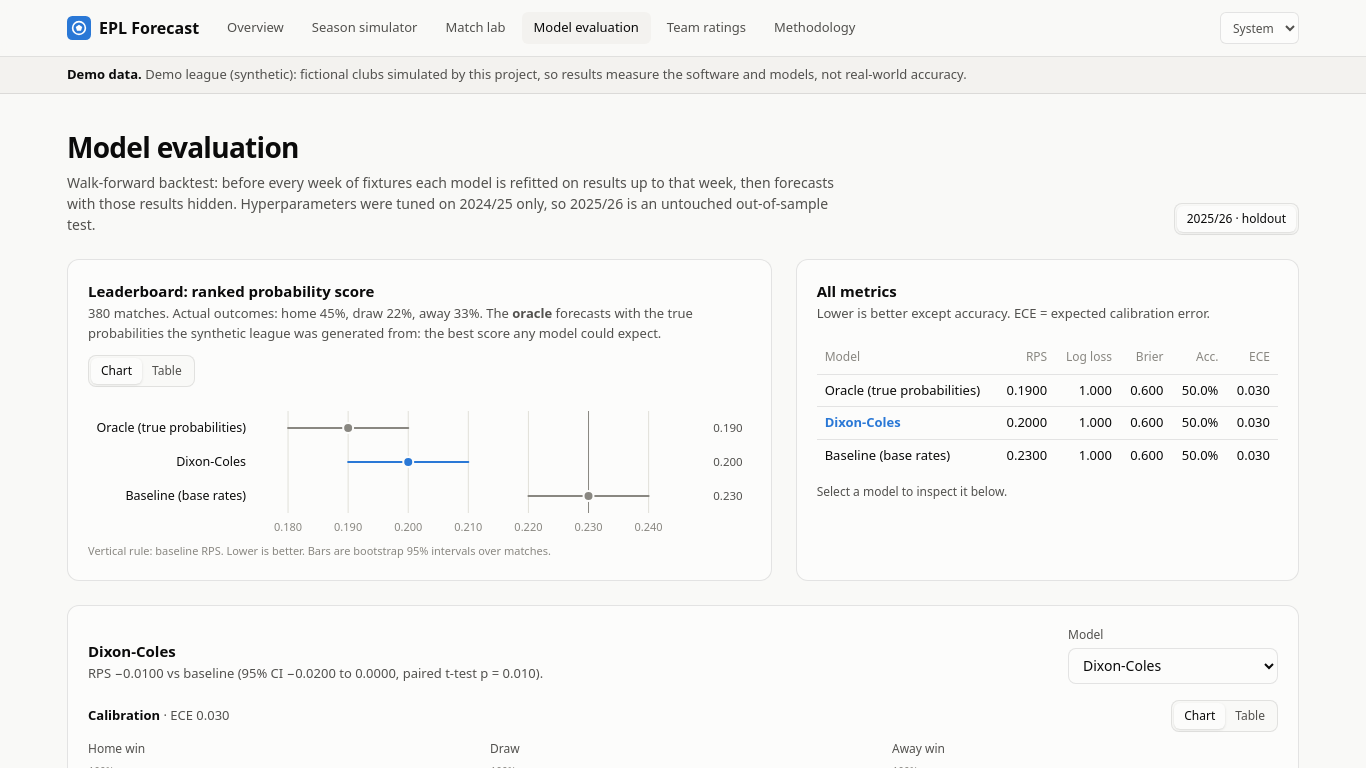
Scenario: model evaluation › shows the oracle as a ceiling and lets a reviewer inspect another model
This screenshot has width=1366, height=768.
expect the heading "Dixon-Coles" is shown: met, box top-left (88, 640), bottom-right (176, 660)
Select "Baseline (base rates)" in the dropdown labelled "Model" at (1173, 666), box top-left (1068, 648), bottom-right (1278, 684)
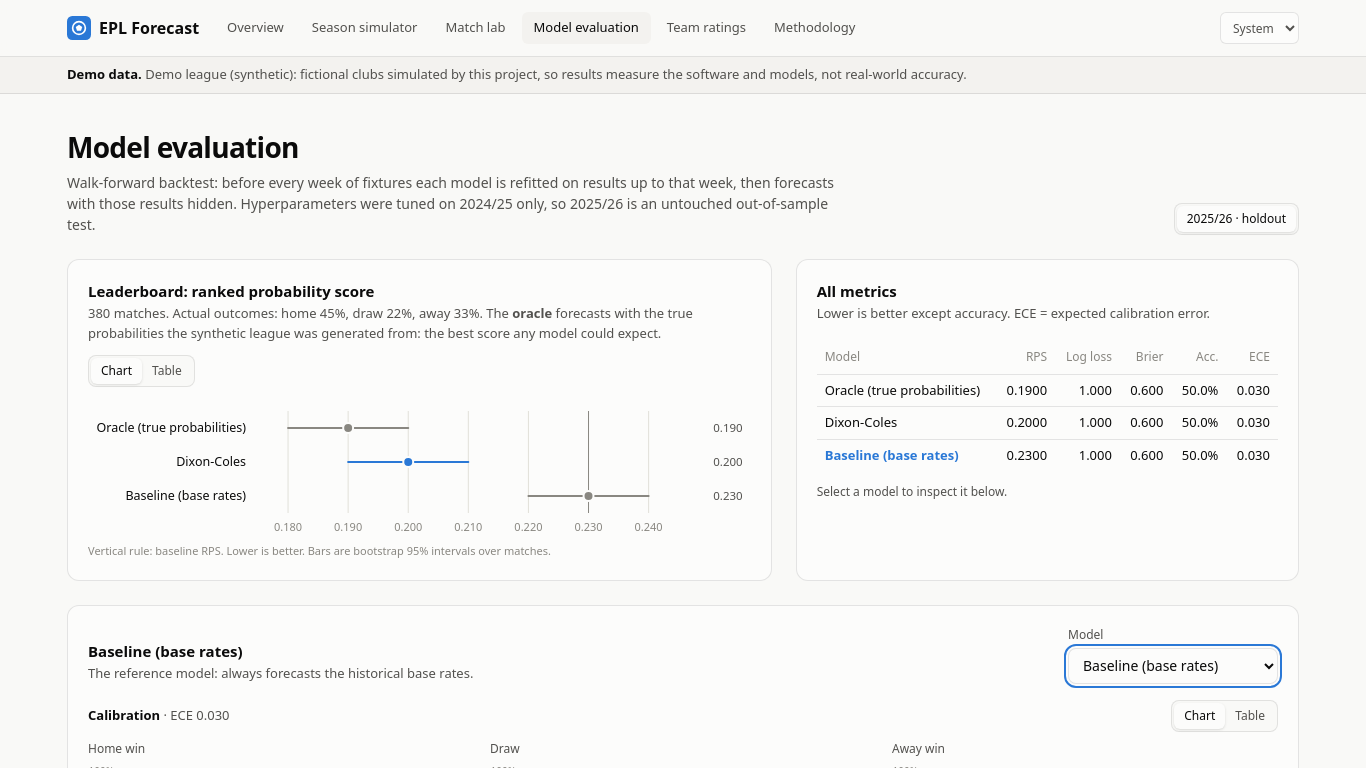
expect the heading "Baseline (base rates)" is shown: met, box top-left (88, 640), bottom-right (243, 660)
expect the text "The reference model" is shown: met, box top-left (88, 664), bottom-right (473, 682)
